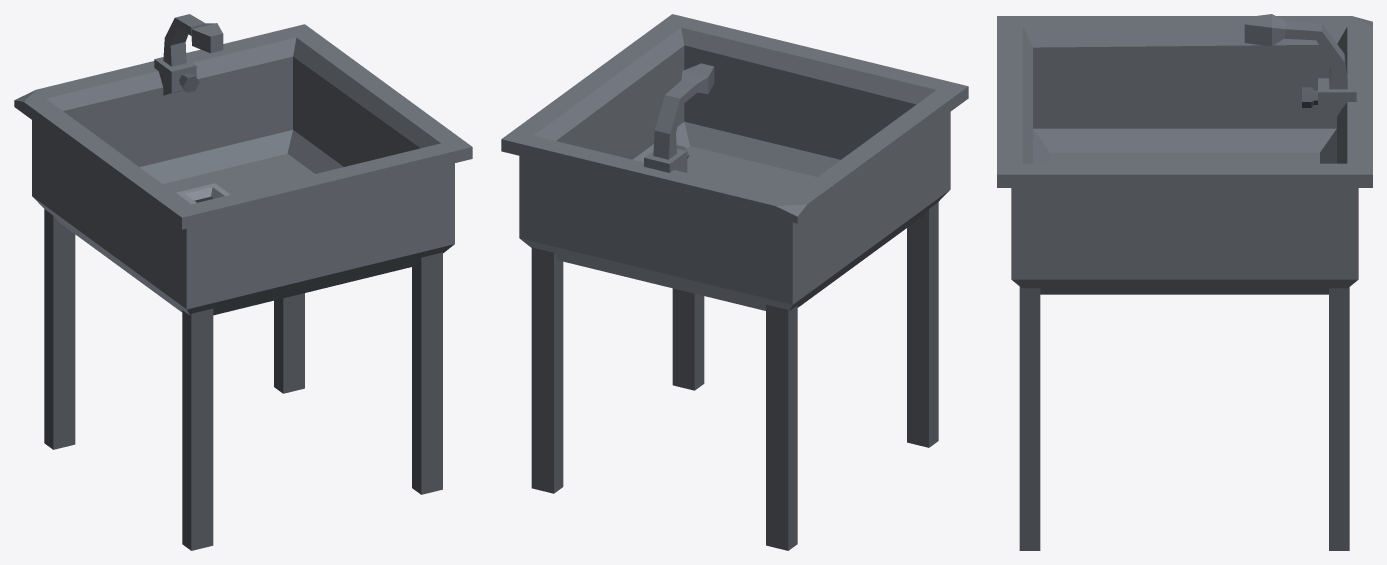
Rendered from SM_Prop_Sink_01.glb.
3 renders of one model, left to right at view 1: azimuth 30°, elevation 25°; view 2: azimuth 150°, elevation 25°; view 3: azimuth 270°, elevation 25°, orthographic. The views are drawn at different scales.
Parts seen in each view (by area): view 1: SM_Prop_Sink_01; view 2: SM_Prop_Sink_01; view 3: SM_Prop_Sink_01.
Part boxes in pixels (x1,y1,x2,y2): SM_Prop_Sink_01: (14,14,472,550); SM_Prop_Sink_01: (501,14,968,550); SM_Prop_Sink_01: (997,14,1372,550).
Size of the model in its own units: 0.7895 by 1.07 by 0.7895.
Materials: 1 (1 with a texture image).
